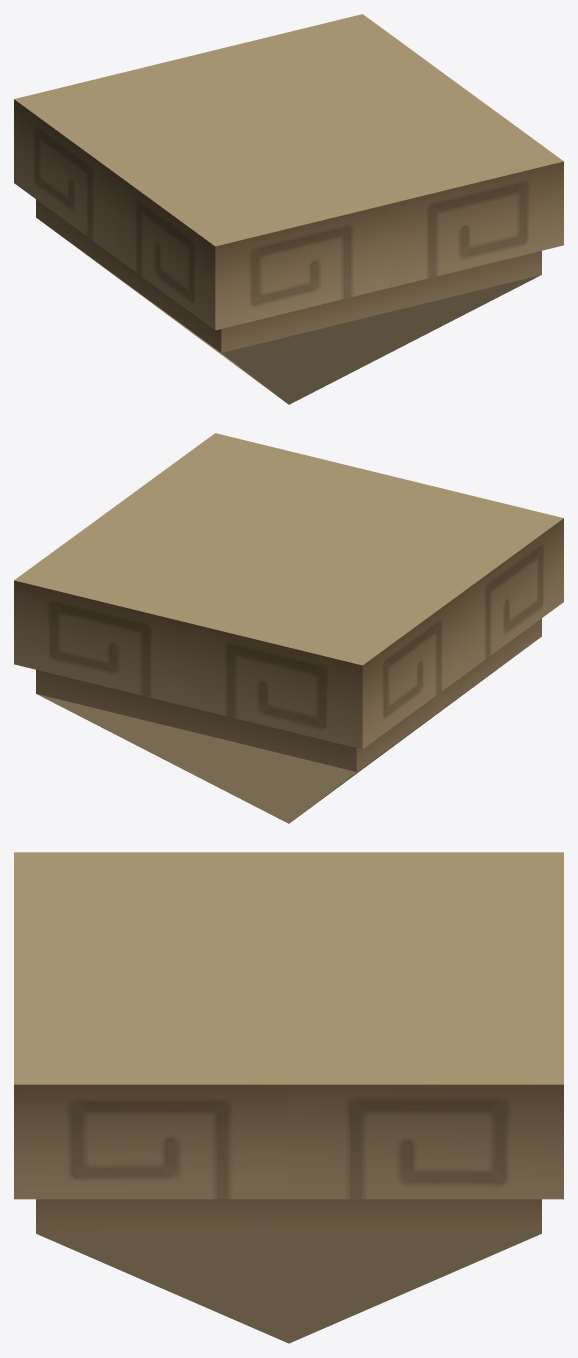
The model's file is Floor2.fbx.
3 renders of one model, top to bottom at view 1: azimuth 30°, elevation 25°; view 2: azimuth 150°, elevation 25°; view 3: azimuth 270°, elevation 25°, orthographic. The views are drawn at different scales.
Visible parts, largest first — view 1: Cube; view 2: Cube; view 3: Cube.
Part boxes in pixels (left/top/right/bottom): Cube: left=14, top=14, right=563, bottom=404; Cube: left=14, top=433, right=563, bottom=823; Cube: left=14, top=852, right=563, bottom=1343.
Bounding box in the file's own units: 217 × 164 × 217.
